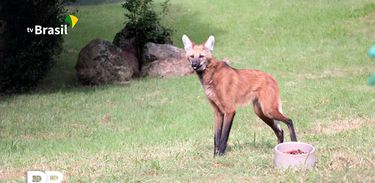LoboGuara: (174, 33, 311, 153)
